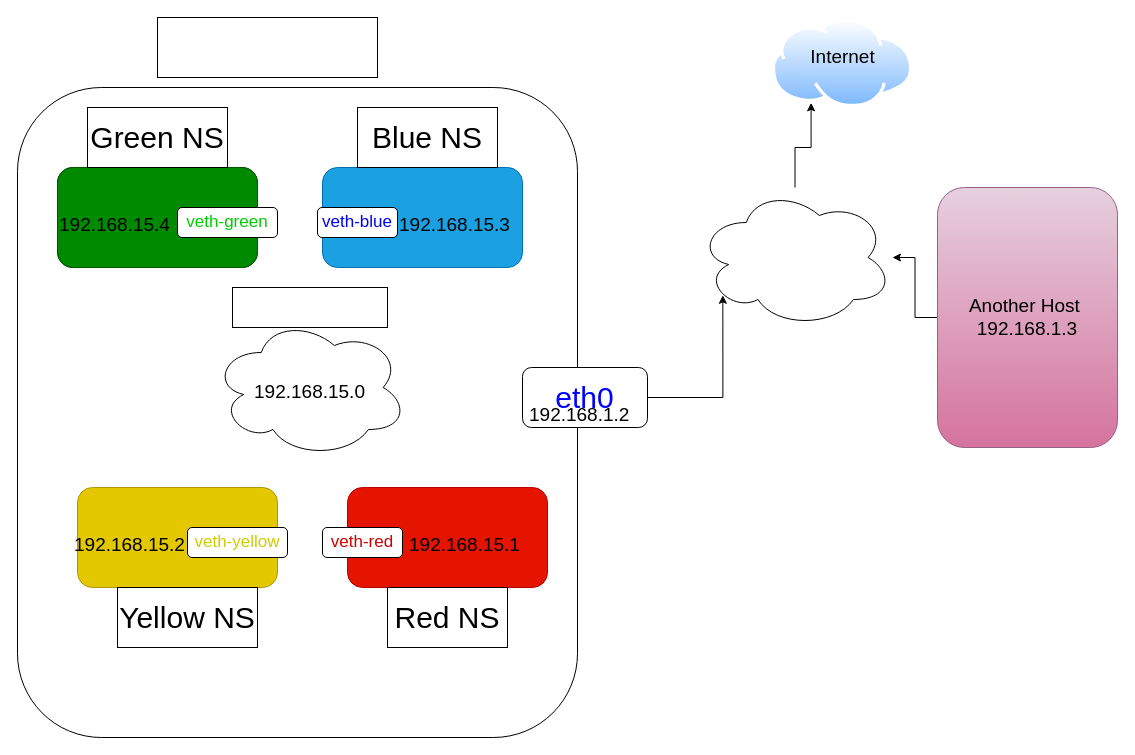
Some shapes in this 1135 by 755 pixel diagram are drawn without their labels. Each missing label, with the centre of its shape:
LAN 192.168.1.0: pixel 794 257
Linux server: pixel 267 47
Virtual network: pixel 310 307
